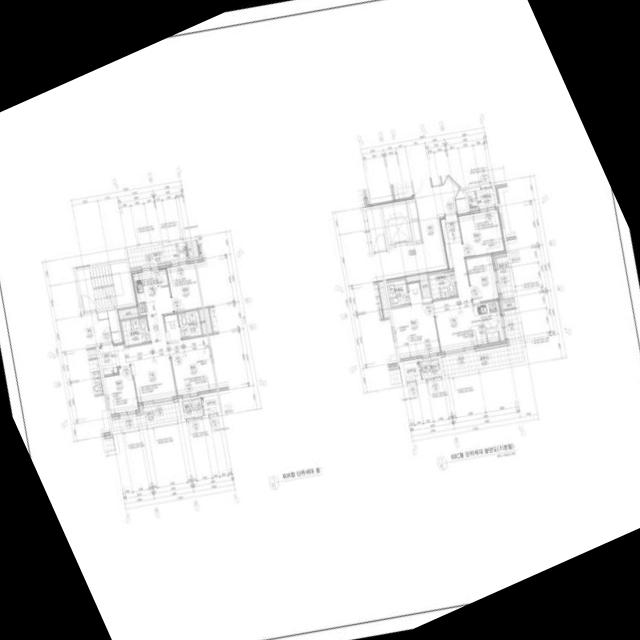background: (0, 0, 640, 640)
space_balconi: (440, 308, 525, 375), (112, 400, 182, 431), (127, 242, 188, 268), (495, 256, 514, 300), (419, 356, 441, 379), (181, 396, 203, 418)
space_bedroom: (163, 313, 216, 398), (391, 282, 441, 361), (456, 207, 506, 258), (165, 261, 201, 312), (104, 366, 140, 417), (465, 254, 500, 301)
space_elevator: (382, 203, 413, 246)
space_elevator_hall: (368, 177, 458, 278), (81, 310, 120, 345)
space_front: (438, 213, 461, 244), (99, 343, 120, 375)
space_kitchen: (130, 265, 173, 317), (467, 300, 506, 348)
space_living_room: (116, 314, 177, 405), (432, 241, 474, 354)
space_multipurpose_space: (466, 188, 495, 208)
space_other: (405, 272, 431, 299), (455, 189, 467, 211), (198, 309, 206, 335), (186, 241, 193, 258), (430, 176, 441, 186), (502, 301, 515, 309), (440, 175, 446, 185)
space_outdoor_room: (402, 362, 421, 382), (201, 395, 220, 415)
space_staircase: (76, 261, 133, 311), (360, 208, 387, 253)
space_toilet: (428, 271, 457, 300), (121, 317, 150, 346), (177, 310, 202, 338), (386, 279, 409, 307)
